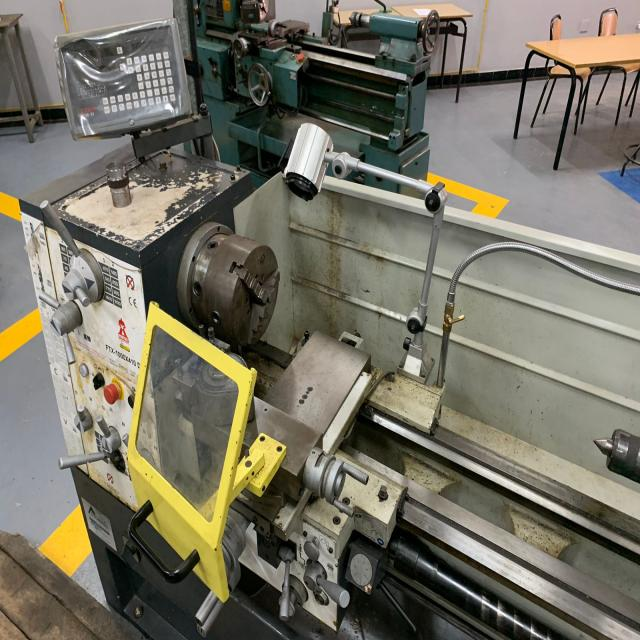tour parallele: (20, 23, 640, 640)
